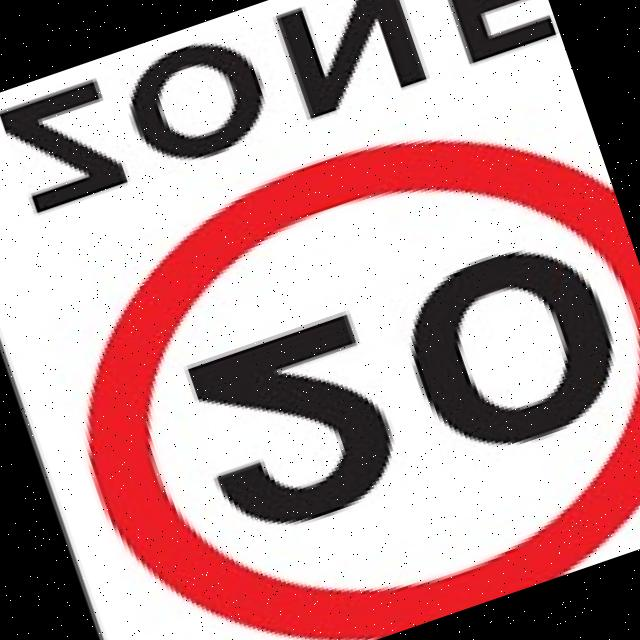speed_limit_20: (13, 69, 640, 640)
